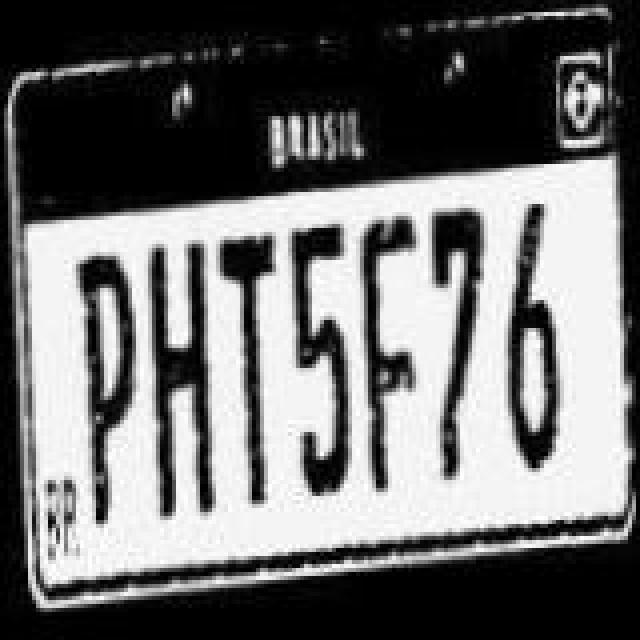5: (284, 222, 360, 506)
6: (500, 206, 576, 478)
7: (426, 206, 498, 482)
F: (356, 216, 424, 492)
H: (144, 232, 224, 536)
P: (66, 240, 150, 540)
T: (222, 228, 294, 524)
